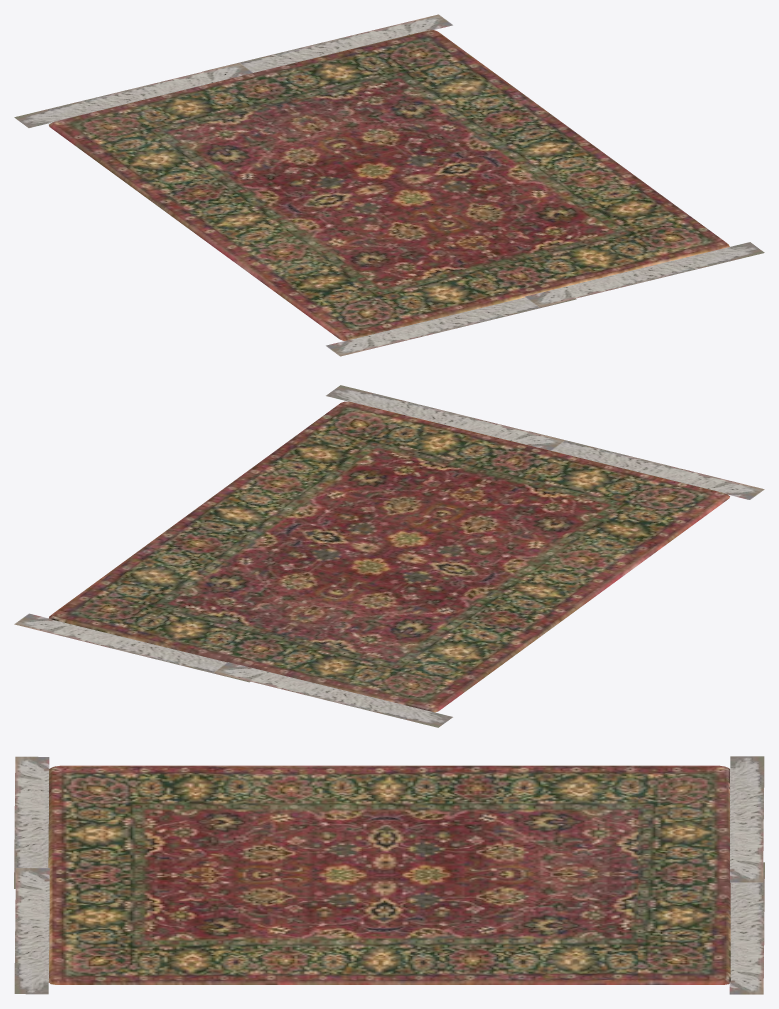
The model's file is SM_carpeSM_living_room_5212eb.glb.
The picture shows the model from 3 angles, top to bottom: view 1: azimuth 30°, elevation 25°; view 2: azimuth 150°, elevation 25°; view 3: azimuth 270°, elevation 25°; orthographic projection. The views are drawn at different scales.
Size of the model in its own units: 3.42 by 0.0178 by 4.56.
2 materials, 2 textured.
